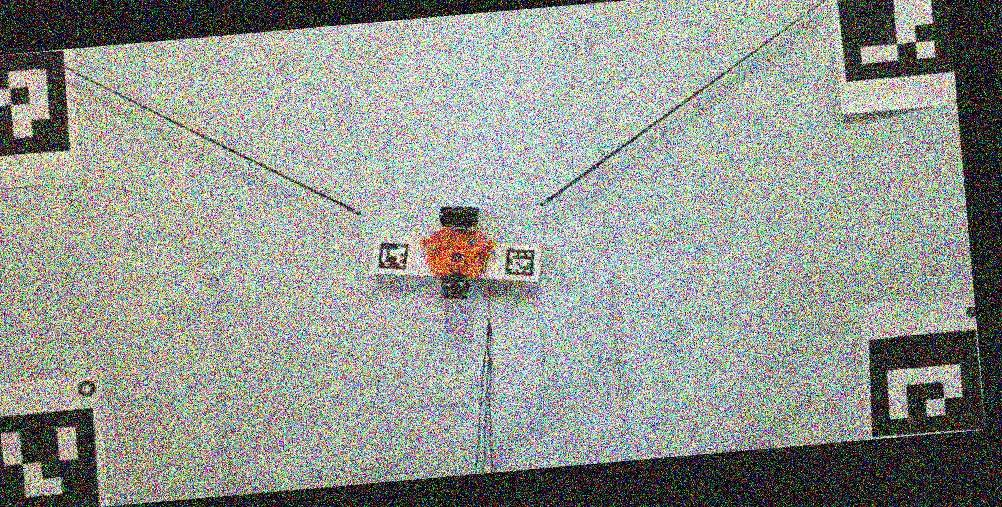robot: (419, 207, 494, 300)
